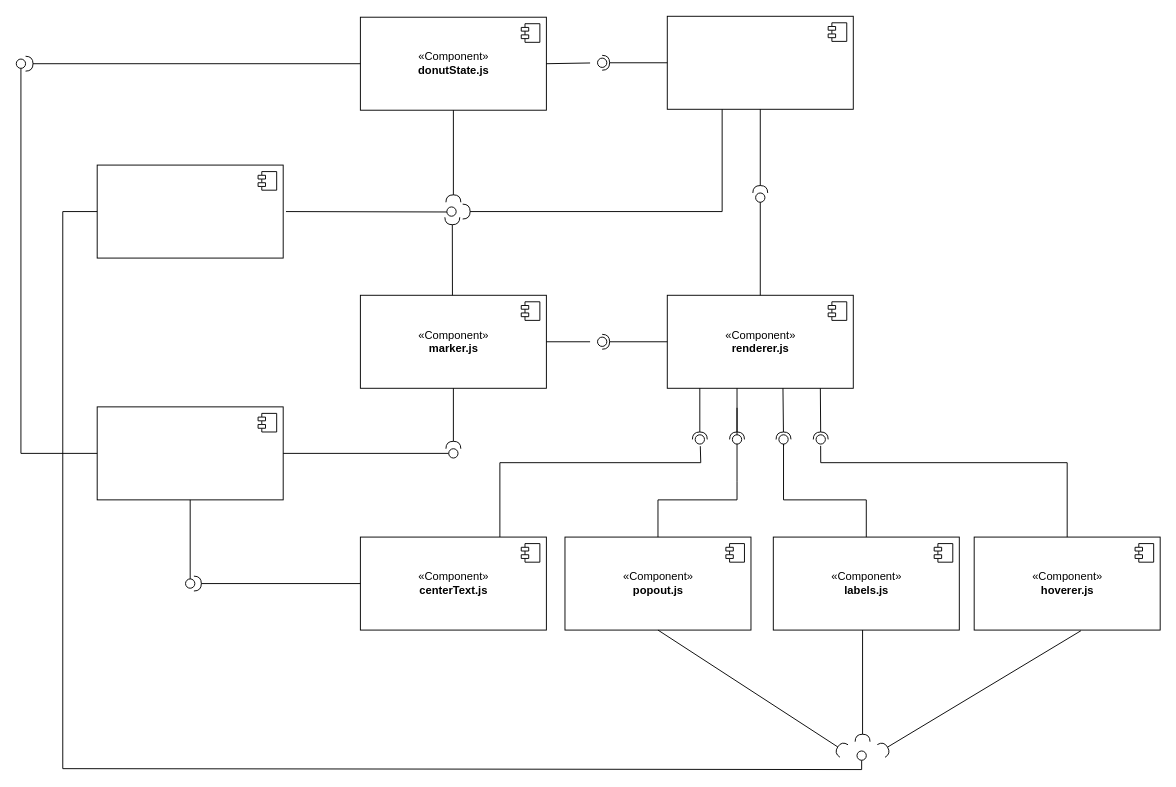
Image size: 1176x787. Some labels were removed from this diagram. The centre of each missing label's shape, as x and y in pixels:
"«Component» main.js" goes at (x=759, y=62).
"«Component» resources.js" goes at (x=189, y=211).
"«Component» utility.js" goes at (x=189, y=453).
